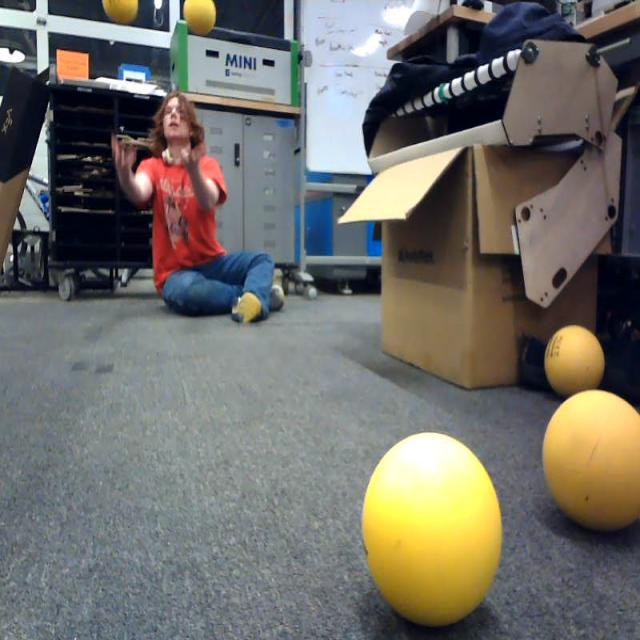Fuel: (363, 433, 502, 626), (542, 390, 640, 535), (546, 325, 604, 396), (184, 0, 215, 34), (102, 0, 137, 23)
